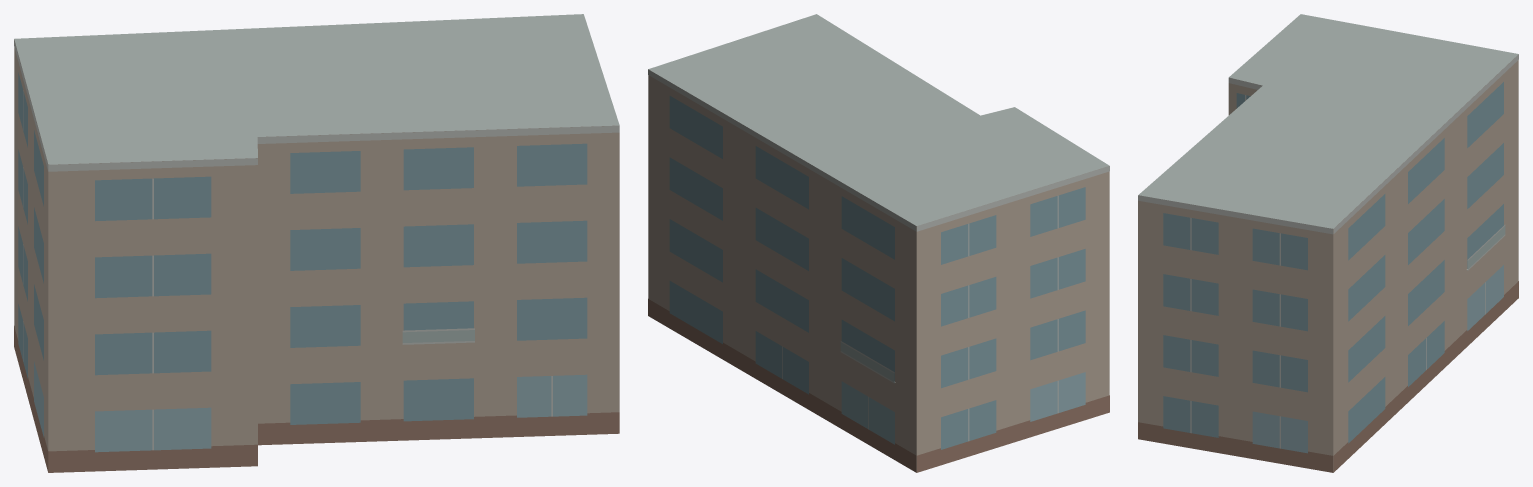
The model's file is survey-upis-32562498.glb.
3 views of the same model, side by side, from view 1: azimuth 30°, elevation 25°; view 2: azimuth 150°, elevation 25°; view 3: azimuth 270°, elevation 25° (orthographic). The views are drawn at different scales.
Parts seen in each view (by area): view 1: survey-upis-32562498.tmp; view 2: survey-upis-32562498.tmp; view 3: survey-upis-32562498.tmp.
Part boxes in pixels (box(x1,y1,x2,y2)): survey-upis-32562498.tmp: box(14, 14, 619, 472); survey-upis-32562498.tmp: box(648, 14, 1109, 472); survey-upis-32562498.tmp: box(1138, 14, 1518, 472).
Size of the model in its own units: 20.22 by 10.7 by 15.14.
